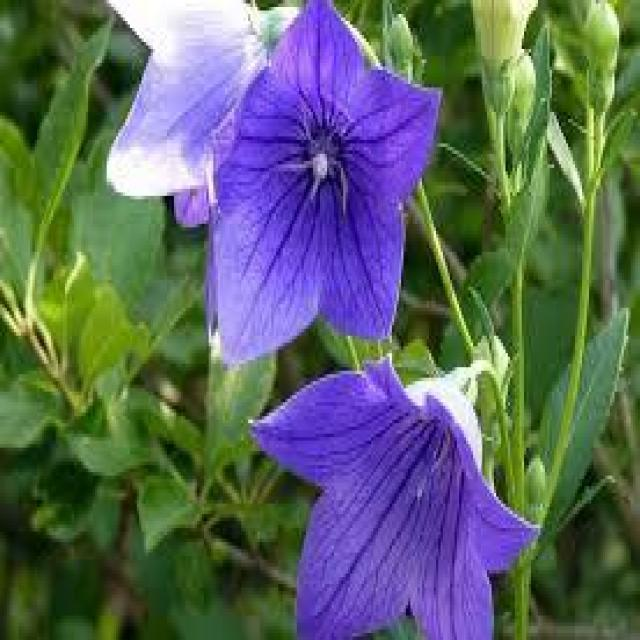organic waste: (202, 9, 436, 351), (241, 364, 529, 636)
